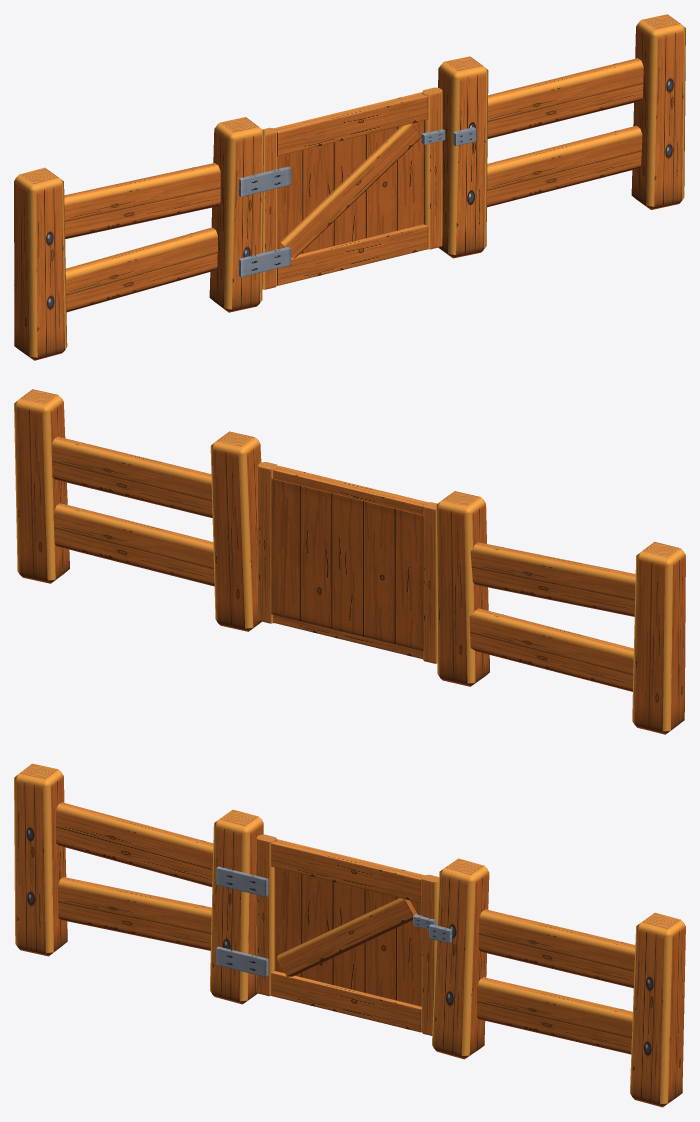
File: Fence_Gate.fbx
The picture shows the model from 3 angles, top to bottom: view 1: azimuth 30°, elevation 25°; view 2: azimuth 150°, elevation 25°; view 3: azimuth 330°, elevation 25°; orthographic projection.
Parts seen in each view (by area): view 1: Fence_Gate_Frame, Fence_Gate_Door; view 2: Fence_Gate_Frame, Fence_Gate_Door; view 3: Fence_Gate_Frame, Fence_Gate_Door.
Boxes of the visible parts, x1=… form: Fence_Gate_Frame: x1=14, y1=14, x2=685, y2=360; Fence_Gate_Door: x1=239, y1=87, x2=445, y2=289; Fence_Gate_Frame: x1=14, y1=389, x2=685, y2=734; Fence_Gate_Door: x1=257, y1=462, x2=437, y2=663; Fence_Gate_Frame: x1=14, y1=763, x2=685, y2=1107; Fence_Gate_Door: x1=216, y1=834, x2=439, y2=1035.
Size of the model in its own units: 4.47 by 1.2 by 0.2795.
Materials: 1 (1 with a texture image).
